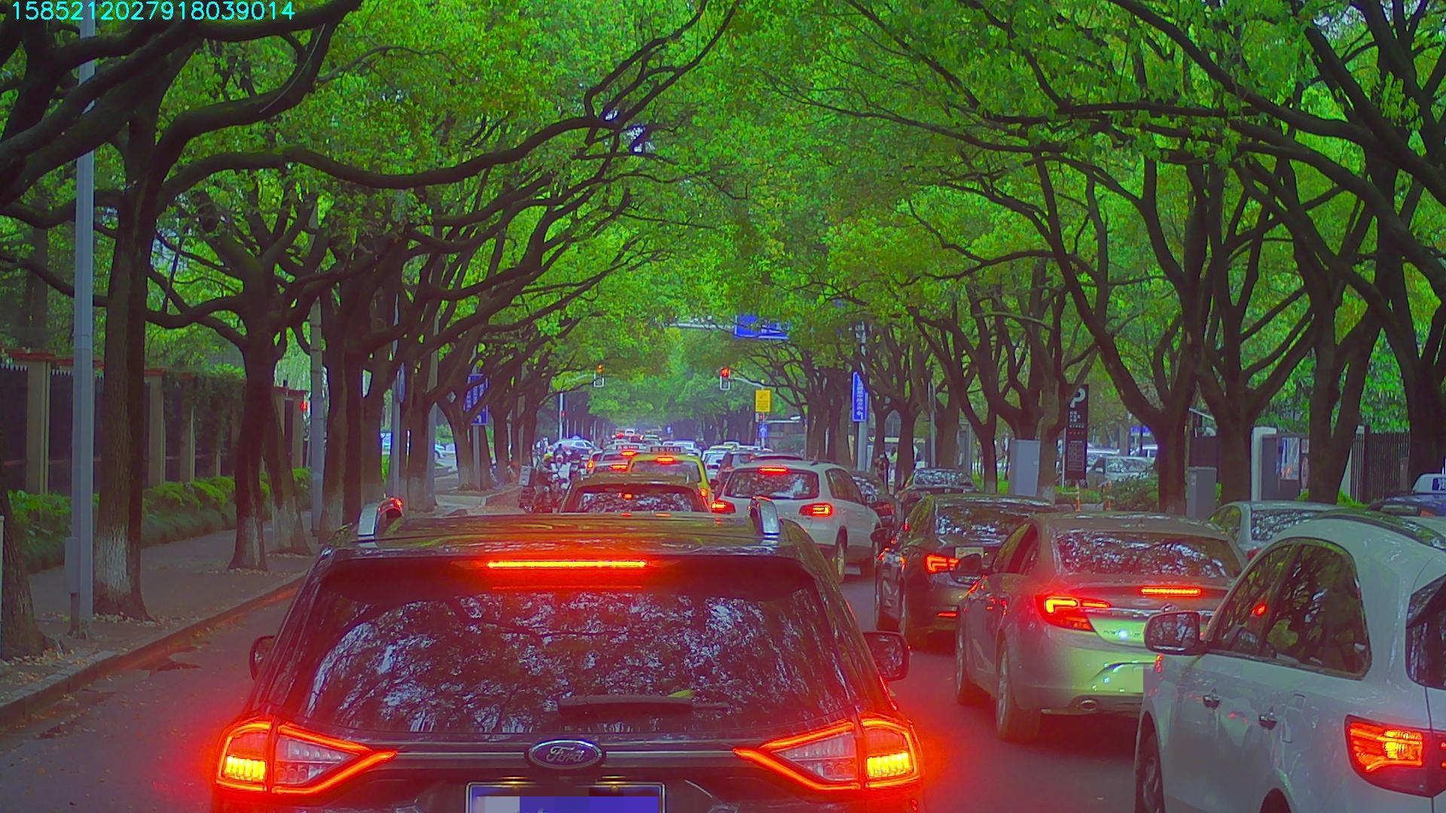red: (593, 362, 602, 385), (720, 365, 728, 388)
